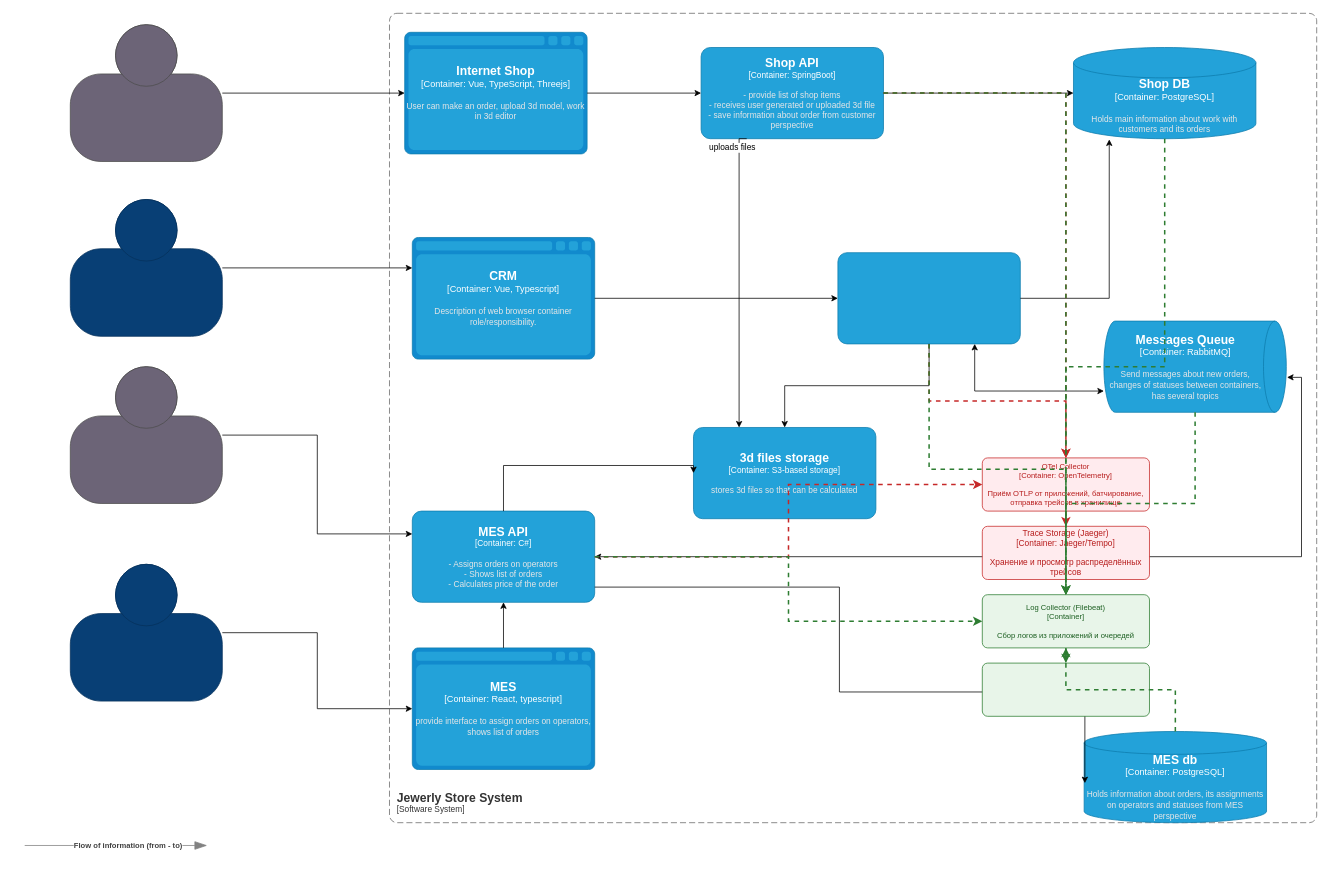
This 1330x871 diagram has some shape labels left out. Each missing label, with the centre of its shape:
"API user [Person] Description of external person." belongs at (146,435).
"CRM API [Container: SpringBoot] Description of container role/responsibility." belongs at (928,298).
"Customer [Person] Description of external person." belongs at (146,93).
"Log Storage (Elasticsearch) [Container] Хранение и поиск логов" belongs at (1066,689).
"Operator [Person] Takes order in work, manufactures jewerly" belongs at (146,632).
"Seller [Person] Operates with order, confirms manufacturing for the user" belongs at (146,267).
